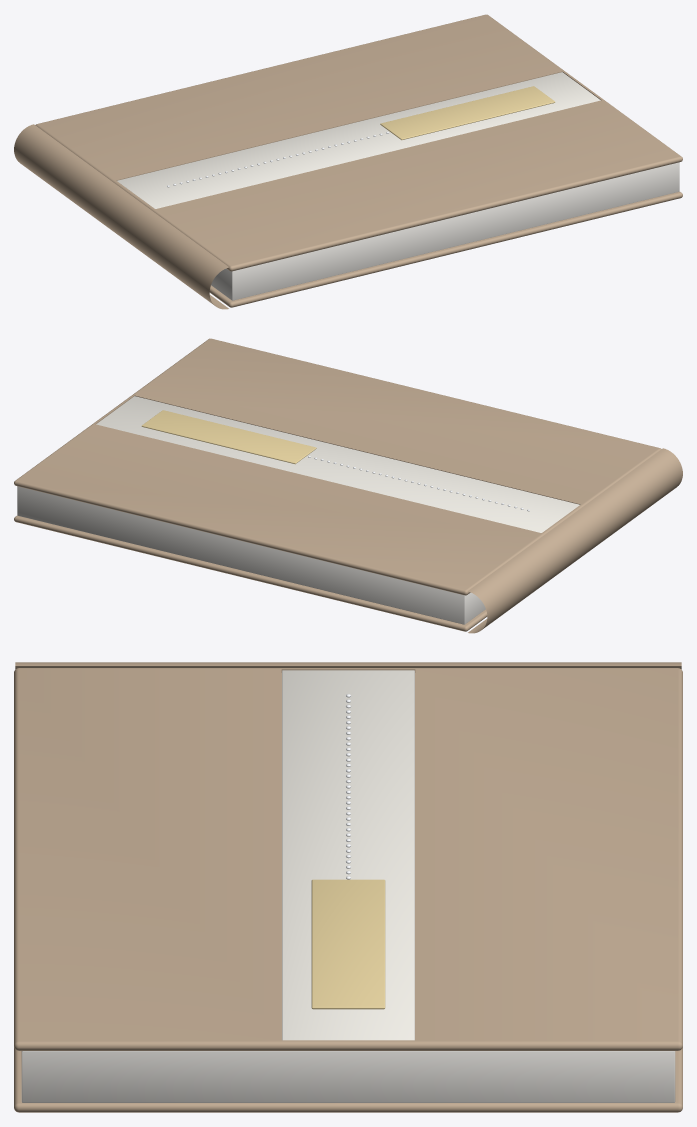
The model's file is fascia--landscape.glb.
The picture shows the model from 3 angles, top to bottom: view 1: azimuth 30°, elevation 25°; view 2: azimuth 150°, elevation 25°; view 3: azimuth 270°, elevation 25°; orthographic projection. The views are drawn at different scales.
Visible parts, largest first — view 1: CoverFront, Pages, Band, Spine, CoverBack, Plate; view 2: CoverFront, Pages, Band, Spine, CoverBack, Plate; view 3: CoverFront, Band, Pages, Plate, CoverBack, Spine.
Part boxes in pixels (x1,y1,x2,y2): CoverFront: [35, 14, 682, 271]; Pages: [211, 162, 679, 300]; Band: [117, 72, 600, 208]; Spine: [14, 124, 228, 309]; CoverBack: [209, 191, 682, 307]; Plate: [380, 86, 555, 140]; CoverFront: [14, 338, 661, 595]; Pages: [17, 486, 485, 624]; Band: [96, 396, 579, 532]; Spine: [468, 448, 682, 633]; CoverBack: [14, 515, 487, 631]; Plate: [141, 410, 316, 464]; CoverFront: [14, 668, 682, 1050]; Band: [282, 670, 414, 1040]; Pages: [21, 1051, 675, 1102]; Plate: [311, 879, 385, 1009]; CoverBack: [14, 1047, 682, 1112]; Spine: [15, 662, 681, 669].
Bounding box in the file's own units: 0.4179 × 0.0361 × 0.3.
